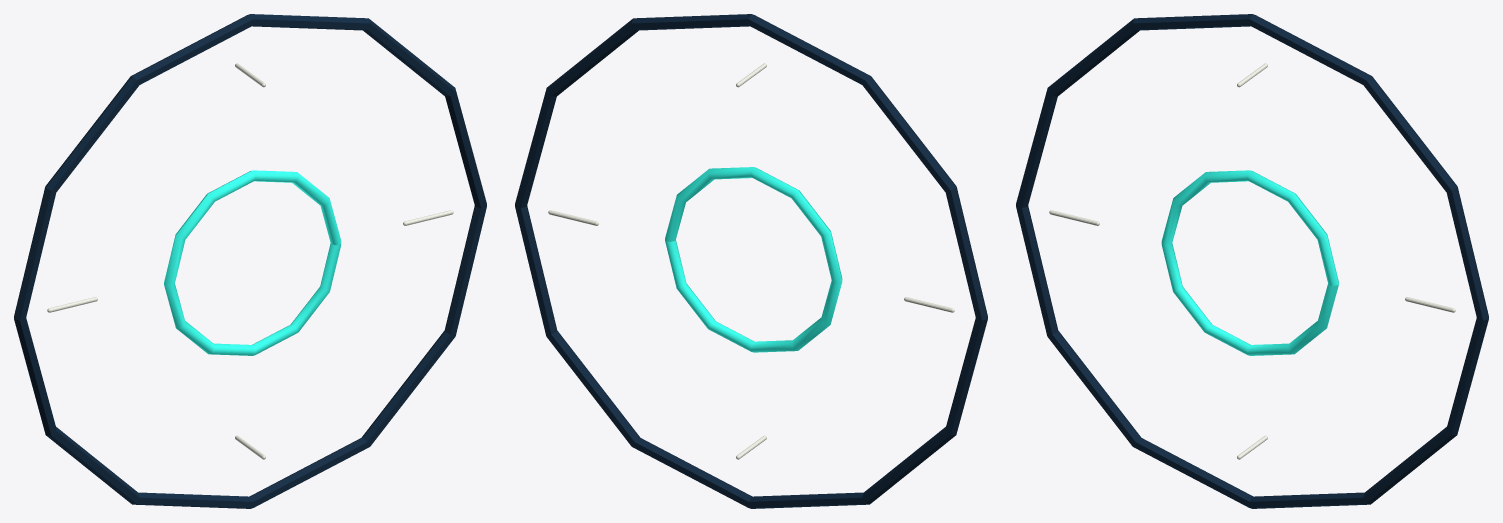
The model's file is hazard-membrane.glb.
3 views of the same model, side by side, from view 1: azimuth 30°, elevation 25°; view 2: azimuth 150°, elevation 25°; view 3: azimuth 330°, elevation 25° (orthographic).
Visible parts, largest first — view 1: dark_static, iris_lip, porcelain_static; view 2: dark_static, iris_lip, porcelain_static; view 3: dark_static, iris_lip, porcelain_static.
Boxes of the visible parts, box(x1,y1,x2,y2) form: dark_static: box(14, 14, 486, 508); iris_lip: box(164, 170, 341, 355); porcelain_static: box(47, 63, 453, 459); dark_static: box(515, 14, 987, 508); iris_lip: box(665, 167, 842, 352); porcelain_static: box(548, 63, 954, 459); dark_static: box(1016, 14, 1488, 508); iris_lip: box(1161, 170, 1338, 355); porcelain_static: box(1049, 63, 1455, 459).
Size of the model in its own units: 4308 by 4308 by 456.
